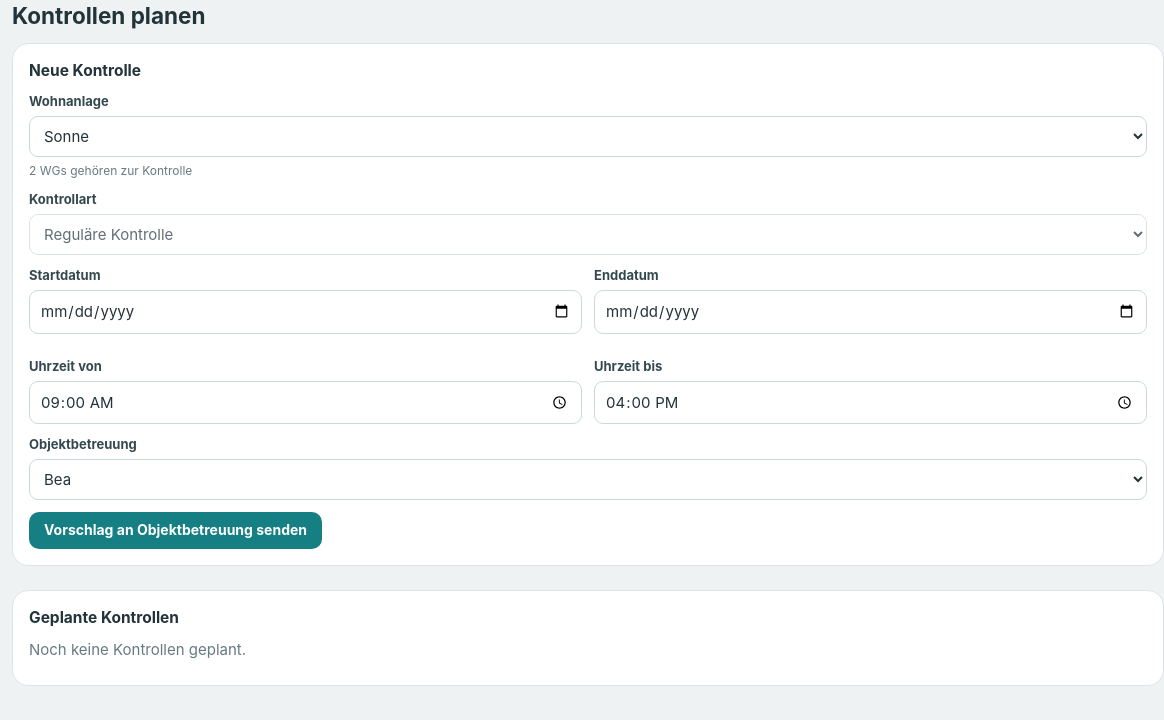
Test: prefills the form and sends a proposal for the whole residence
The image size is (1164, 720).
Check: the text "2 WGs gehören zur Kontrolle" is shown, box [29,163,192,178]
Check: the dropdown labelled "Kontrollart" shows "Reguläre Kontrolle", box [29,214,1147,255]
Type "2026-12-01" into the date field labelled "Startdatum" at (306, 312), box [29,290,582,334]
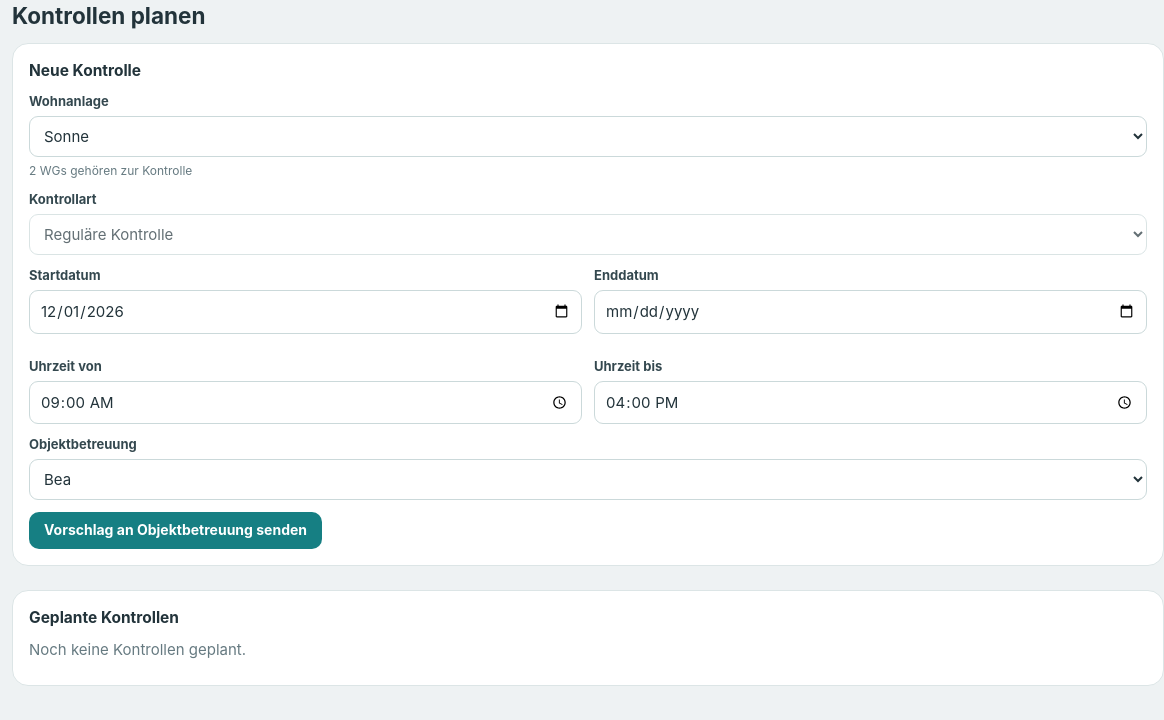
Type "2026-12-03" into the date field labelled "Enddatum" at (870, 312), box [594,290,1147,334]
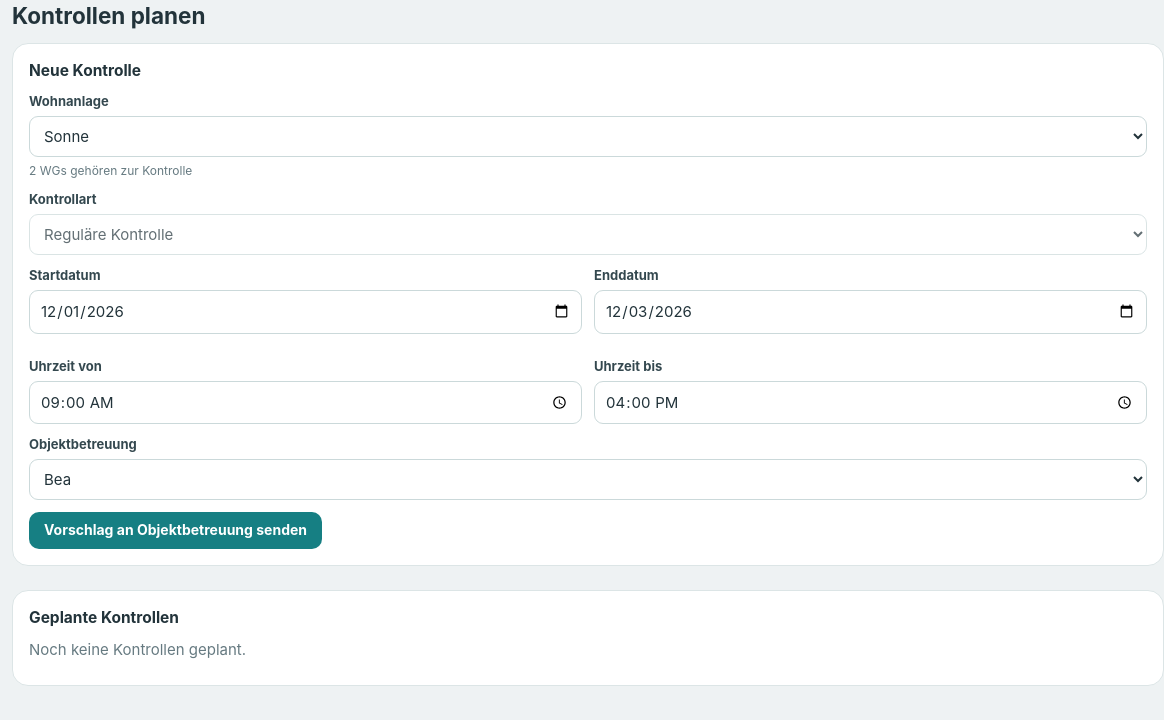
Click the button "Vorschlag an Objektbetreuung senden" at (176, 531), box [29,512,322,549]
(page scrolled)
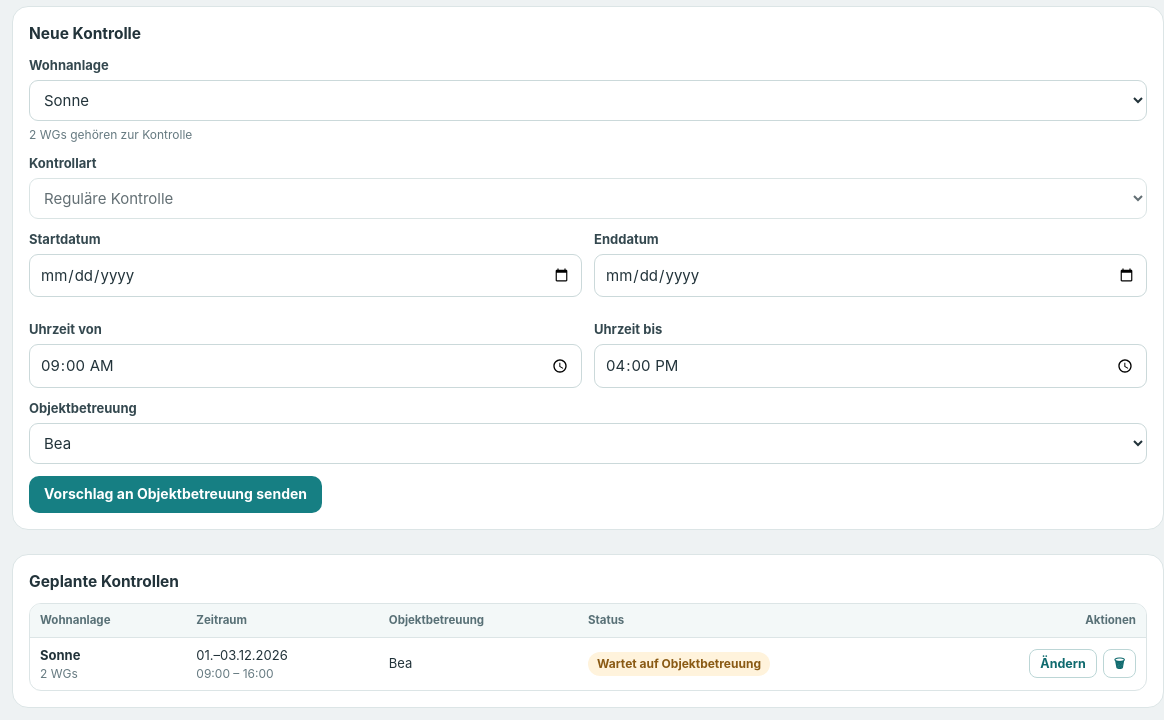
Check: the text "Wartet auf Objektbetreuung" is shown, box [588,652,770,676]
